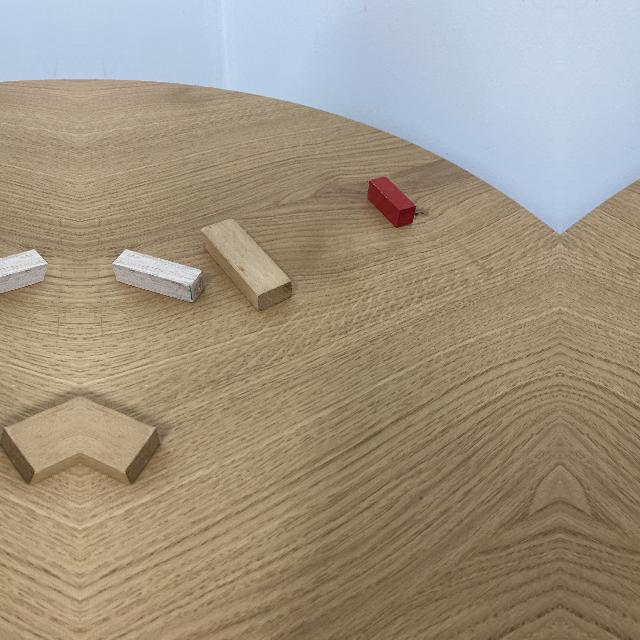block: (111, 249, 204, 302), (0, 249, 49, 294)
jenga: (201, 218, 292, 312), (80, 395, 160, 485), (0, 395, 80, 485)
red block: (367, 176, 416, 228)
